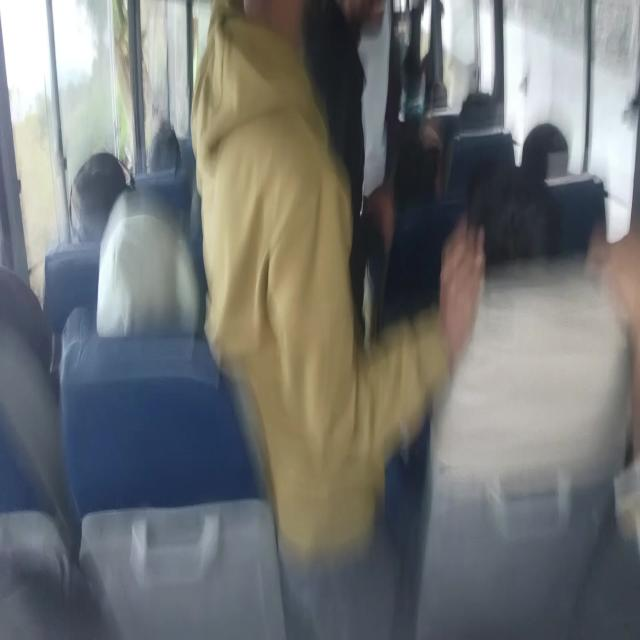person: (206, 0, 360, 362), (476, 209, 583, 326), (313, 0, 373, 204), (64, 155, 132, 263), (353, 0, 393, 172), (406, 144, 466, 256), (0, 265, 60, 358), (111, 232, 167, 316), (522, 120, 578, 204), (154, 106, 196, 192), (465, 84, 511, 150), (174, 175, 216, 230), (402, 50, 434, 98), (417, 80, 462, 111)
